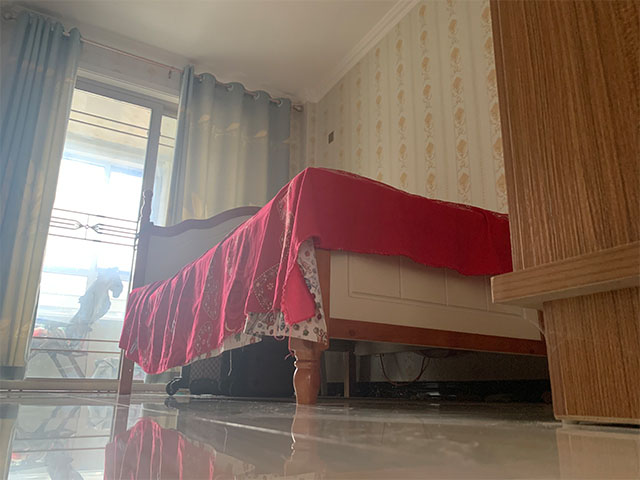bed: (114, 165, 549, 409)
cabinet: (488, 1, 640, 427)
curtain: (1, 9, 86, 383)
